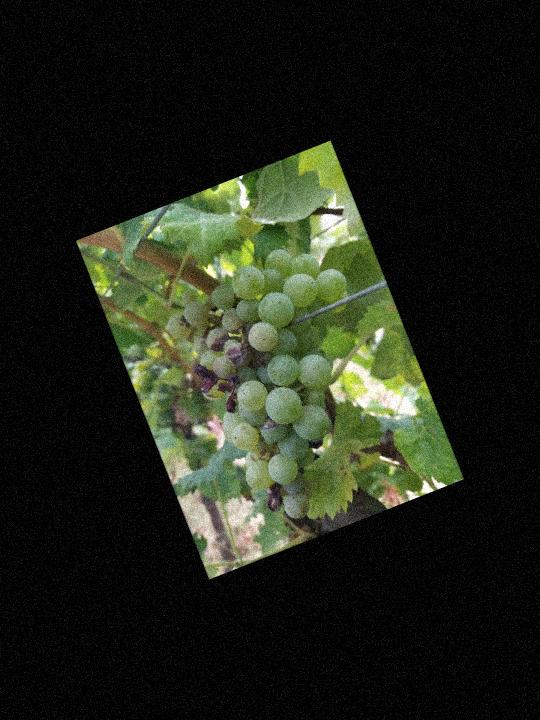grape: (159, 228, 424, 539)
